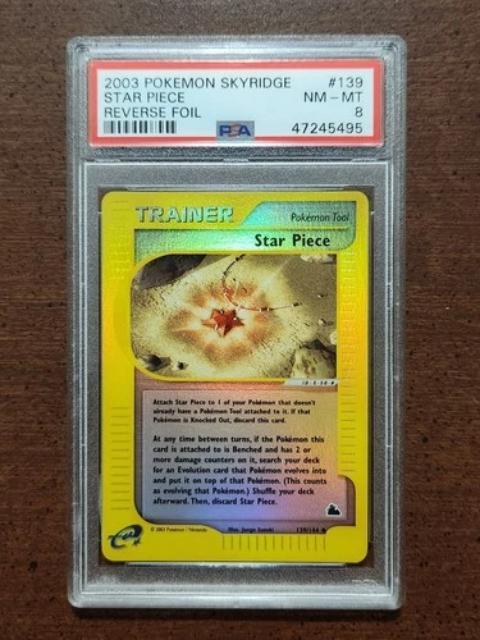Card: (96, 185, 374, 569)
Name: (249, 229, 337, 255)
